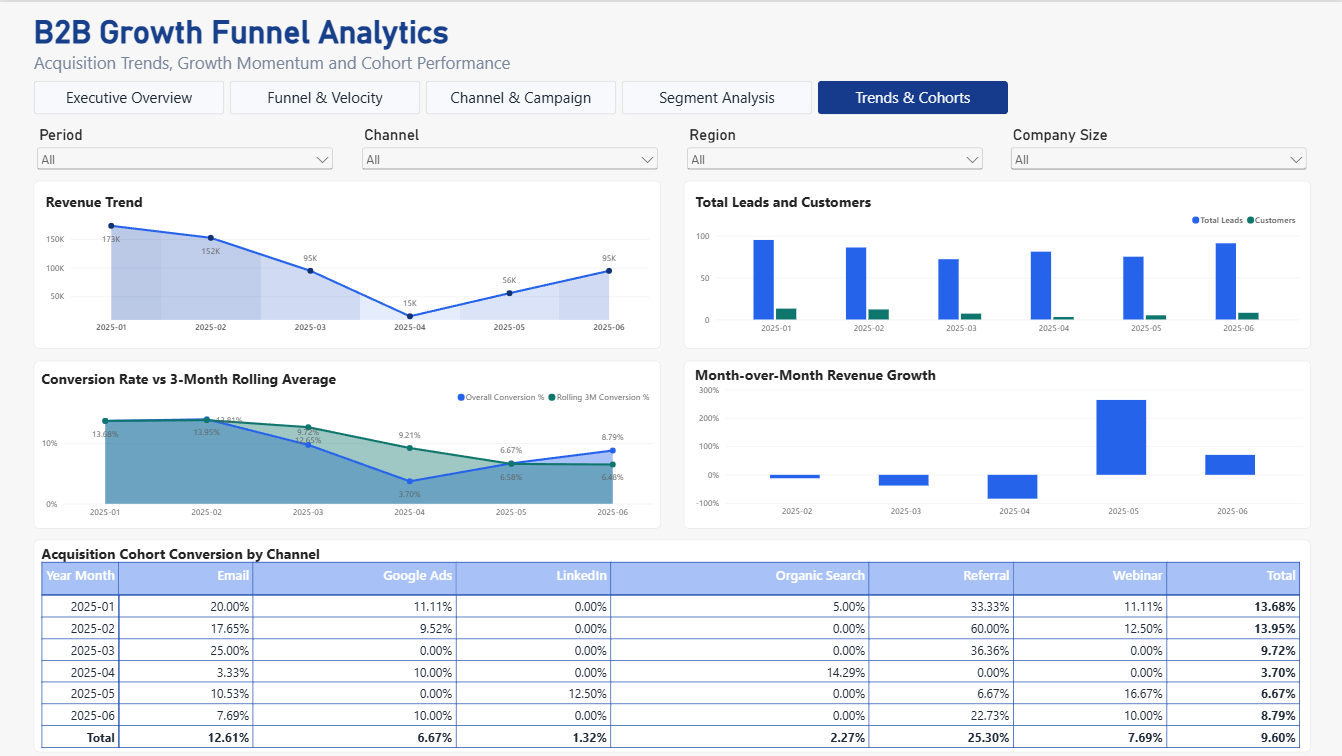

This screenshot's page, from the dashboard's own definition file:
{"tool":"powerbi","page":{"name":"Trends & Cohorts","canvas":[1920,1080],"ordinal":4},"visuals":[{"type":"slicer","fields":{"Values":["Date.Year Month"]},"box":[48,176,432,80],"z":0},{"type":"slicer","fields":{"Values":["Lead Funnel.channel"]},"box":[512,176,432,80],"z":1000},{"type":"slicer","fields":{"Values":["Lead Funnel.region"]},"box":[976,176,432,80],"z":2000},{"type":"slicer","fields":{"Values":["Lead Funnel.company_size"]},"box":[1440,176,432,80],"z":3000},{"type":"pageNavigator","box":[48,112,1392,48],"z":4000},{"type":"textbox","title":"B2B Growth Funnel Analytics","box":[48,16,752,96],"z":5000},{"type":"areaChart","title":"Revenue Trend","fields":{"Category":["Date.Year Month"],"Y":["Lead Funnel.Total Revenue"]},"box":[48,256,896,240],"z":6000},{"type":"clusteredColumnChart","title":"Total Leads and Customers ","fields":{"Category":["Date.Year Month"],"Y":["Lead Funnel.Total Leads","Lead Funnel.Customers"]},"box":[976,256,896,240],"z":7000},{"type":"areaChart","title":"Conversion Rate vs 3-Month Rolling Average","fields":{"Category":["Date.Year Month"],"Y":["Lead Funnel.Overall Conversion %","Lead Funnel.Rolling 3M Conversion %"]},"box":[48,512,896,240],"z":8000},{"type":"columnChart","title":"Month-over-Month Revenue Growth","fields":{"Category":["Date.Year Month"],"Y":["Lead Funnel.Revenue MoM Growth %"]},"box":[976,512,896,240],"z":9000},{"type":"pivotTable","title":"Acquisition Cohort Conversion by Channel","fields":{"Columns":["Lead Funnel.channel"],"Rows":["Date.Year Month"],"Values":["Lead Funnel.Overall Conversion %"]},"box":[48,768,1824,304],"z":10000}]}

Visuals, with their boxes in screenshot pixels (x1, y1, x2, y2), scaled from the page's 1920x1080 canvas onto the 1342x756 screenshot:
slicer - Date.Year Month: [34, 123, 336, 179]
slicer - Lead Funnel.channel: [358, 123, 660, 179]
slicer - Lead Funnel.region: [682, 123, 984, 179]
slicer - Lead Funnel.company_size: [1006, 123, 1308, 179]
pageNavigator: [34, 78, 1006, 112]
"B2B Growth Funnel Analytics" textbox: [34, 11, 559, 78]
"Revenue Trend" areaChart: [34, 179, 660, 347]
"Total Leads and Customers " clusteredColumnChart: [682, 179, 1308, 347]
"Conversion Rate vs 3-Month Rolling Average" areaChart: [34, 358, 660, 526]
"Month-over-Month Revenue Growth" columnChart: [682, 358, 1308, 526]
"Acquisition Cohort Conversion by Channel" pivotTable: [34, 538, 1308, 750]
